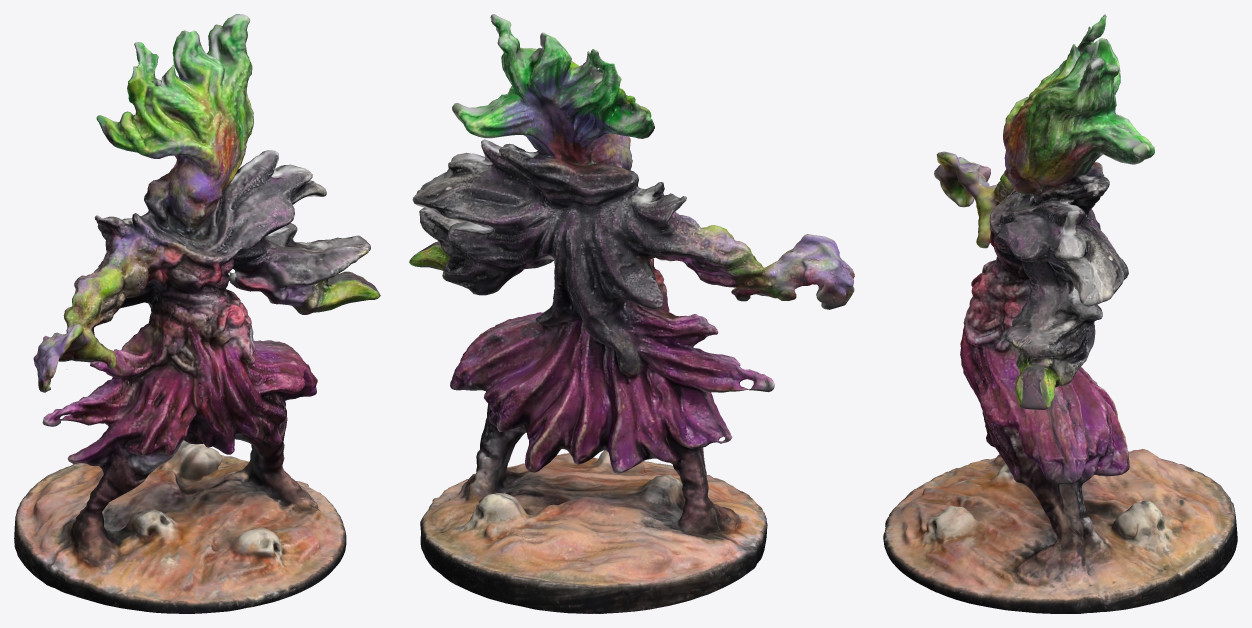
The model's file is Boneshaper.glb.
3 renders of one model, left to right at view 1: azimuth 30°, elevation 25°; view 2: azimuth 150°, elevation 25°; view 3: azimuth 270°, elevation 25°, orthographic. The views are drawn at different scales.
Parts seen in each view (by area): view 1: boneshaper; view 2: boneshaper; view 3: boneshaper.
Part boxes in pixels (x1=…): boneshaper: x1=14, y1=14, x2=380, y2=613; boneshaper: x1=409, y1=14, x2=854, y2=613; boneshaper: x1=883, y1=14, x2=1237, y2=613.
Bounding box in the file's own units: 12.83 × 16.1 × 9.93.
1 material, 1 textured.
